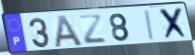3: (28, 16, 51, 49)
8: (109, 12, 132, 43)
A: (54, 14, 85, 49)
I: (144, 9, 157, 42)
X: (158, 6, 190, 41)
Z: (77, 14, 108, 46)
